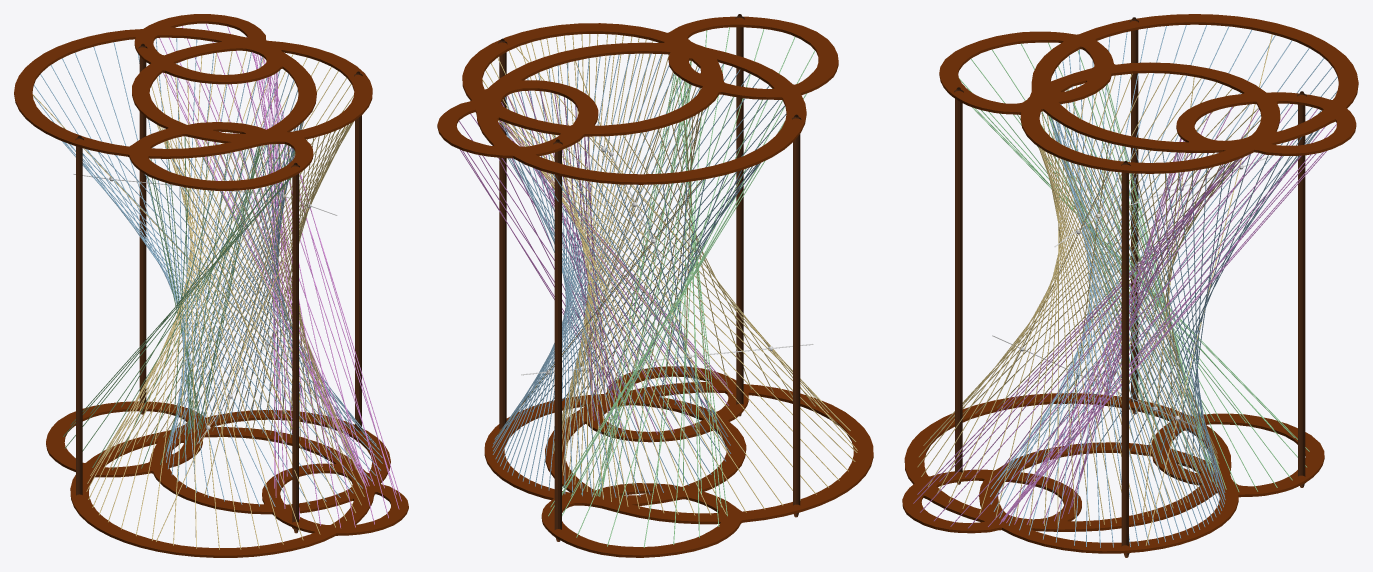
The model's file is Fadenmodell_12_4.glb.
The picture shows the model from 3 angles, left to right: view 1: azimuth 30°, elevation 25°; view 2: azimuth 150°, elevation 25°; view 3: azimuth 270°, elevation 25°; orthographic projection. The views are drawn at different scales.
Visible parts, largest first — view 1: Shape_IndexedFaceSet.007, Shape_IndexedFaceSet.002, Shape_IndexedFaceSet.003, Shape_IndexedFaceSet.005, Shape_IndexedFaceSet.006, Shape_IndexedFaceSet.004; view 2: Shape_IndexedFaceSet.007, Shape_IndexedFaceSet.002, Shape_IndexedFaceSet.003, Shape_IndexedFaceSet.004, Shape_IndexedFaceSet.006, Shape_IndexedFaceSet.005, Shape_IndexedFaceSet.001; view 3: Shape_IndexedFaceSet.007, Shape_IndexedFaceSet.003, Shape_IndexedFaceSet.002, Shape_IndexedFaceSet.005, Shape_IndexedFaceSet.006, Shape_IndexedFaceSet.004.
Part boxes in pixels (box(x1,y1,x2,y2)): Shape_IndexedFaceSet.007: box(14, 14, 408, 557); Shape_IndexedFaceSet.002: box(32, 51, 366, 549); Shape_IndexedFaceSet.003: box(33, 38, 382, 506); Shape_IndexedFaceSet.005: box(159, 23, 401, 528); Shape_IndexedFaceSet.006: box(75, 43, 362, 533); Shape_IndexedFaceSet.004: box(63, 133, 294, 470); Shape_IndexedFaceSet.007: box(437, 16, 873, 557); Shape_IndexedFaceSet.002: box(482, 34, 857, 515); Shape_IndexedFaceSet.003: box(492, 53, 786, 497); Shape_IndexedFaceSet.004: box(548, 27, 814, 547); Shape_IndexedFaceSet.006: box(498, 14, 801, 541); Shape_IndexedFaceSet.005: box(459, 91, 732, 434); Shape_IndexedFaceSet.001: box(521, 142, 813, 375); Shape_IndexedFaceSet.007: box(902, 14, 1358, 553); Shape_IndexedFaceSet.003: box(990, 25, 1337, 547); Shape_IndexedFaceSet.002: box(917, 34, 1272, 545); Shape_IndexedFaceSet.005: box(913, 104, 1336, 528); Shape_IndexedFaceSet.006: box(954, 17, 1306, 557); Shape_IndexedFaceSet.004: box(959, 42, 1309, 491).
Size of the model in its own units: 162 by 188 by 196.
